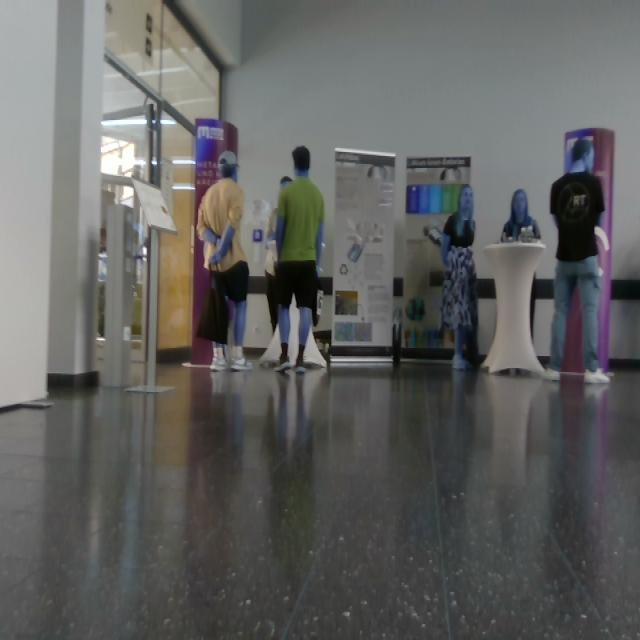door: (330, 148, 397, 361)
light bulb: (423, 225, 443, 246)
person: (543, 137, 611, 385), (197, 150, 254, 372), (274, 147, 326, 375), (440, 185, 480, 370)
tiled floor: (1, 357, 640, 640)
